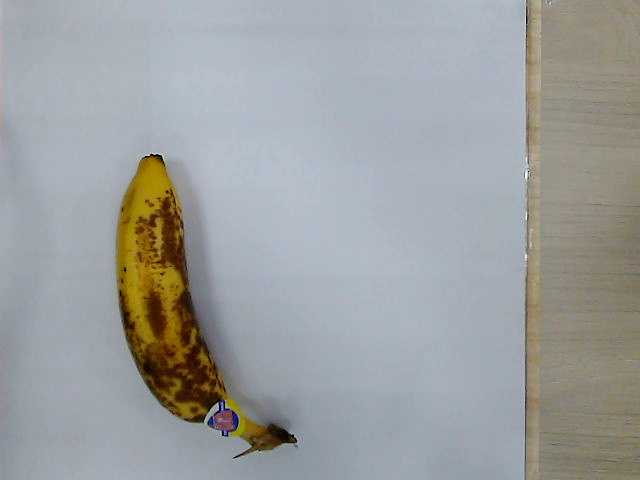rotten_banana: (114, 154, 298, 453)
